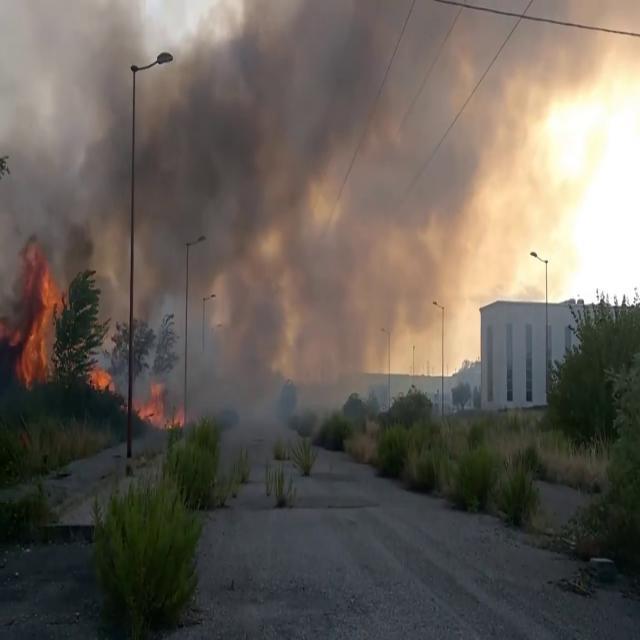Fire: (15, 244, 64, 388), (136, 385, 166, 430), (91, 368, 112, 394), (171, 411, 186, 428)
Smoke: (175, 1, 640, 378)
